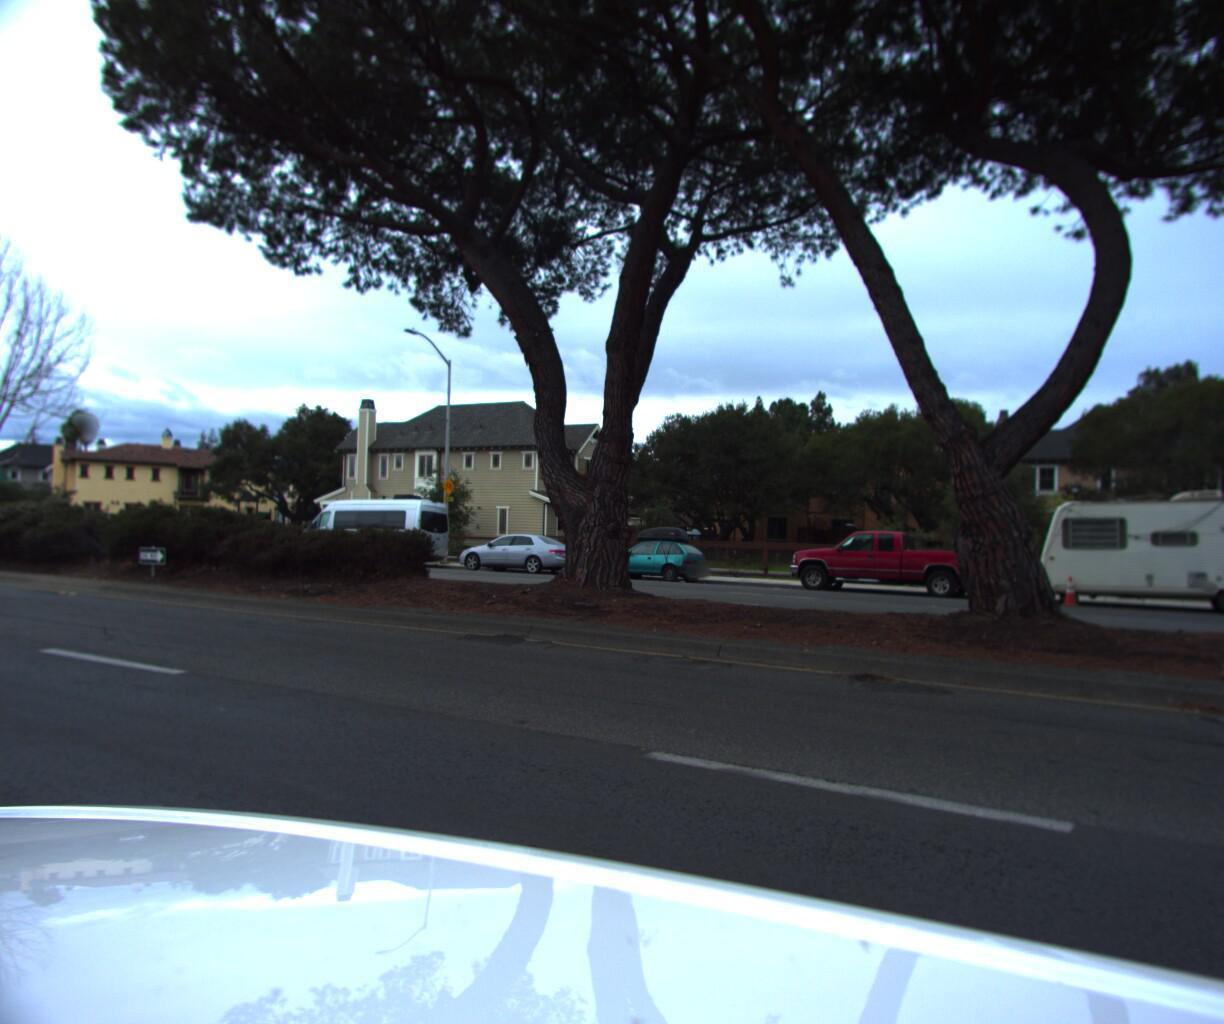car: (764, 524, 1002, 604), (276, 493, 457, 570), (582, 523, 713, 586), (440, 529, 584, 578)
other_vehicle: (992, 473, 1224, 640)
